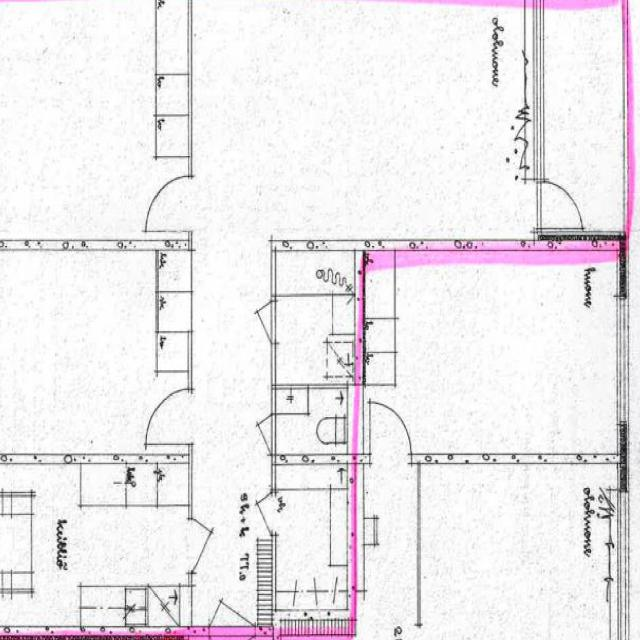door: (208, 567, 255, 636), (144, 176, 192, 231), (188, 518, 235, 572), (145, 390, 192, 444), (534, 182, 580, 229), (240, 492, 276, 535), (240, 300, 276, 343), (243, 414, 277, 452)
